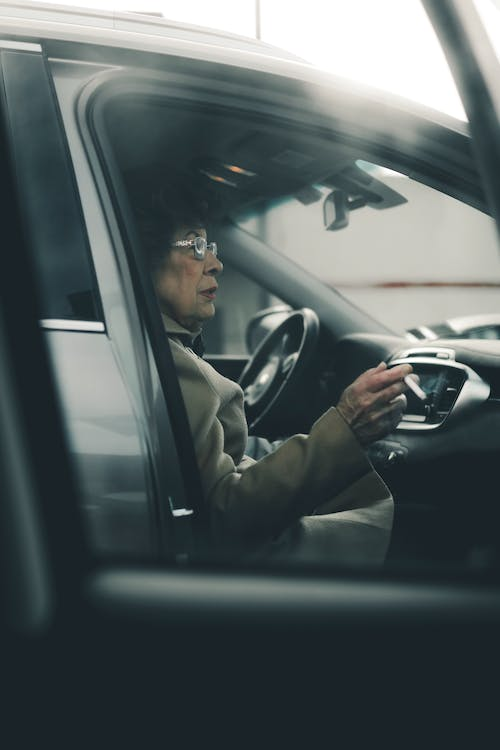cigarette: (404, 374, 428, 404)
